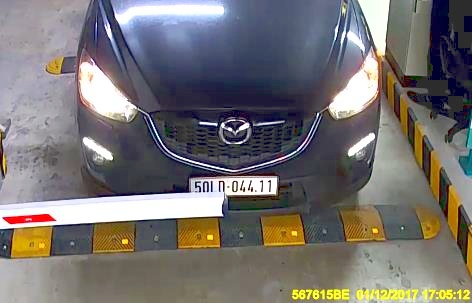plate: (187, 171, 278, 204)
